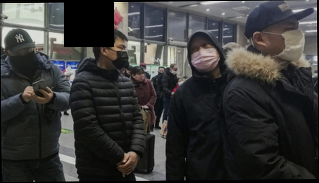with_mask: (266, 25, 307, 63), (189, 43, 221, 74), (10, 48, 37, 71), (107, 43, 131, 68), (170, 64, 179, 76), (177, 78, 185, 87), (158, 68, 166, 76)
without_mask: (135, 72, 145, 84)
